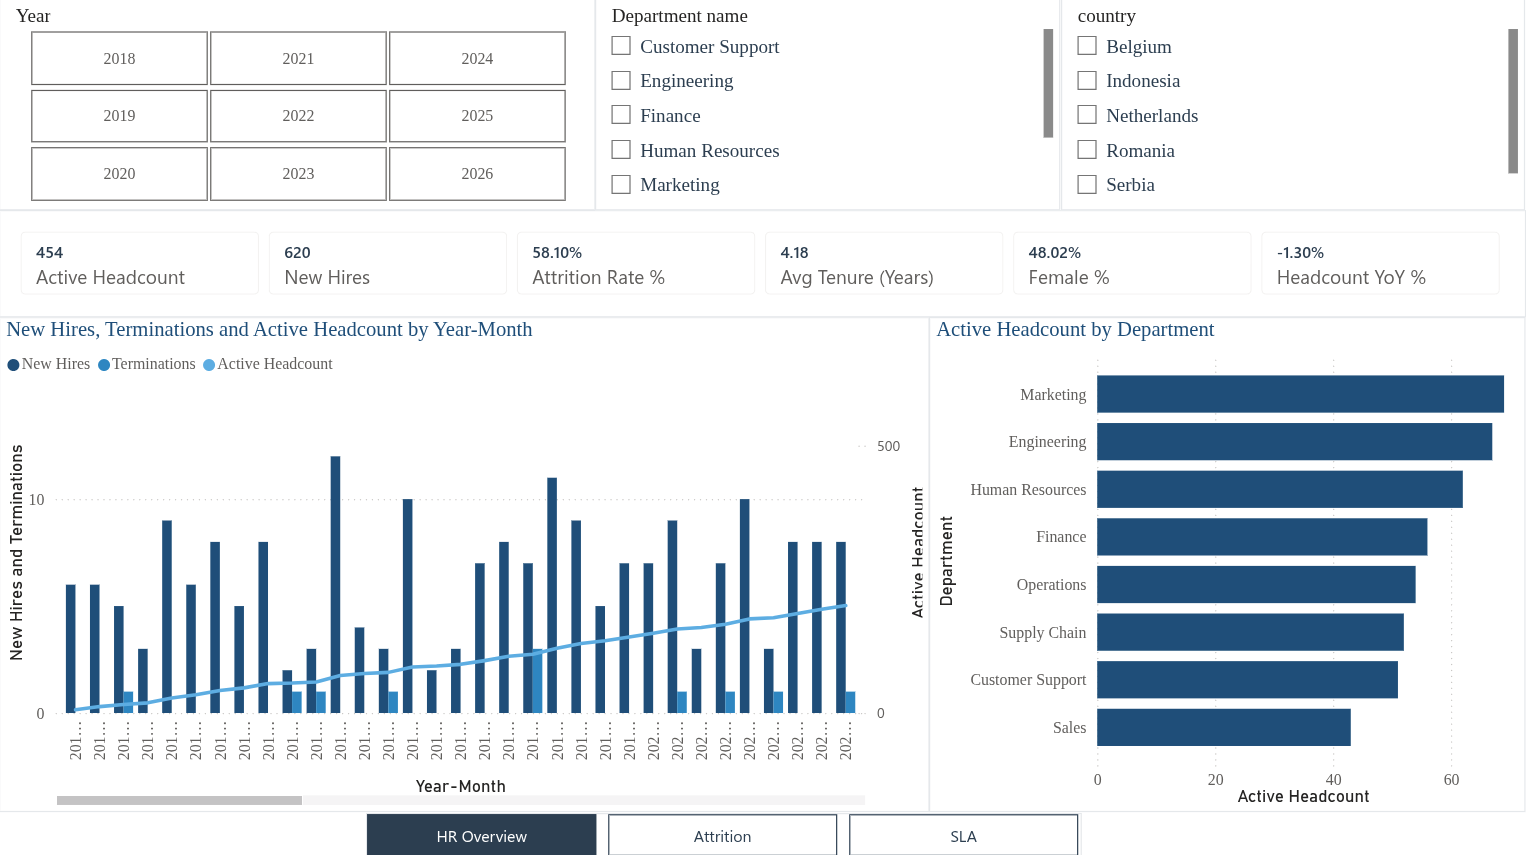

The page's visual inventory and layout, read from the dashboard file:
{"tool":"powerbi","page":{"name":"HR Overview","canvas":[1280,720],"ordinal":0},"visuals":[{"type":"slicer","fields":{"Values":["Dim_Date.Year"]},"box":[0,0,500,177.7],"z":0},{"type":"lineClusteredColumnComboChart","fields":{"Category":["Dim_Date.Year-Month"],"Y":["_Measures.New Hires","_Measures.Terminations"],"Y2":["_Measures.Active Headcount"]},"box":[0,267.5,779.9,415.3],"z":1000},{"type":"cardVisual","fields":{"Data":["_Measures.Active Headcount","_Measures.New Hires","_Measures.Attrition Rate %","_Measures.Avg Tenure (Years)","_Measures.Female %","_Measures.Headcount YoY %"]},"box":[0,177.7,1279.9,89.9],"z":2000},{"type":"clusteredBarChart","fields":{"Category":["Dim_Department.department_name"],"Y":["_Measures.Active Headcount"]},"box":[779.9,267.5,500,415.3],"z":3000},{"type":"slicer","fields":{"Values":["Dim_Department.department_name"]},"box":[500,0,390.5,177.7],"z":4000},{"type":"slicer","fields":{"Values":["Dim_Location.country"]},"box":[890.4,0,389.4,177.7],"z":5000},{"type":"pageNavigator","box":[307.8,682.8,600.2,37.2],"z":6000}]}

Visuals, with their boxes in screenshot pixels (x1, y1, x2, y2), scaled from the page's 1280x720 canvas onto the 1526x855 screenshot:
slicer - Dim_Date.Year: pyautogui.locateOnScreen(0, 0, 596, 211)
lineClusteredColumnComboChart - Dim_Date.Year-Month x _Measures.New Hires: pyautogui.locateOnScreen(0, 318, 930, 811)
cardVisual - _Measures.Active Headcount x _Measures.New Hires: pyautogui.locateOnScreen(0, 211, 1525, 318)
clusteredBarChart - Dim_Department.department_name x _Measures.Active Headcount: pyautogui.locateOnScreen(930, 318, 1525, 811)
slicer - Dim_Department.department_name: pyautogui.locateOnScreen(596, 0, 1062, 211)
slicer - Dim_Location.country: pyautogui.locateOnScreen(1062, 0, 1525, 211)
pageNavigator: pyautogui.locateOnScreen(367, 811, 1083, 854)
